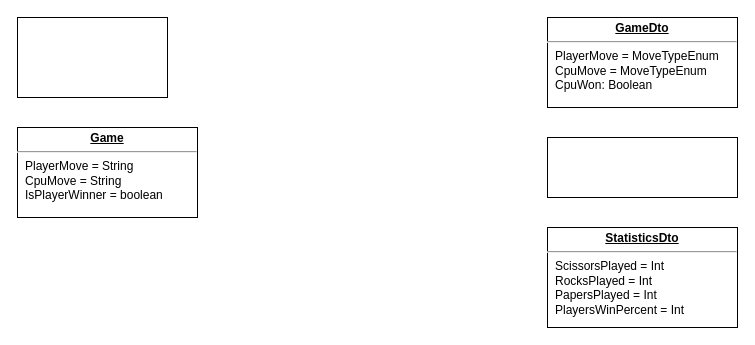
Some shapes in this 755 by 345 pixel diagram are drawn without their labels. The shapes that lost their labels are listed below. From the top down, each one's centre as x and y in pixels, then its label:
the point at 92,57: MoveTypeEnum Paper = 0 Scissors = 1 Rock = 2
the point at 642,167: MoveDto MoveType = MoveTypeEnum
